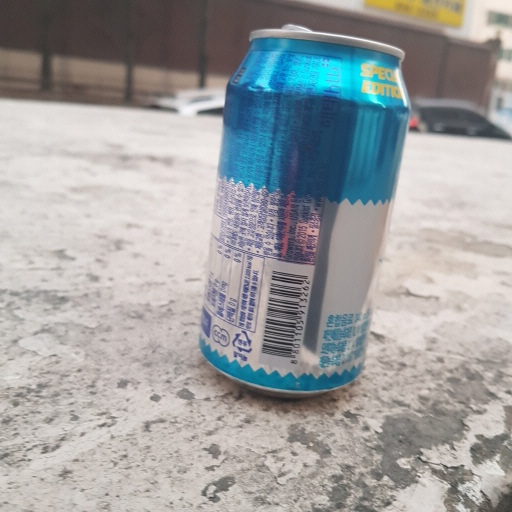Metal_0: (196, 20, 412, 405)
